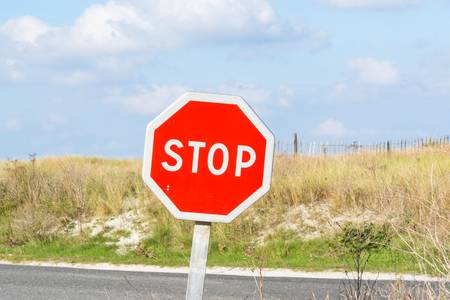stopsign: (141, 94, 276, 222)
